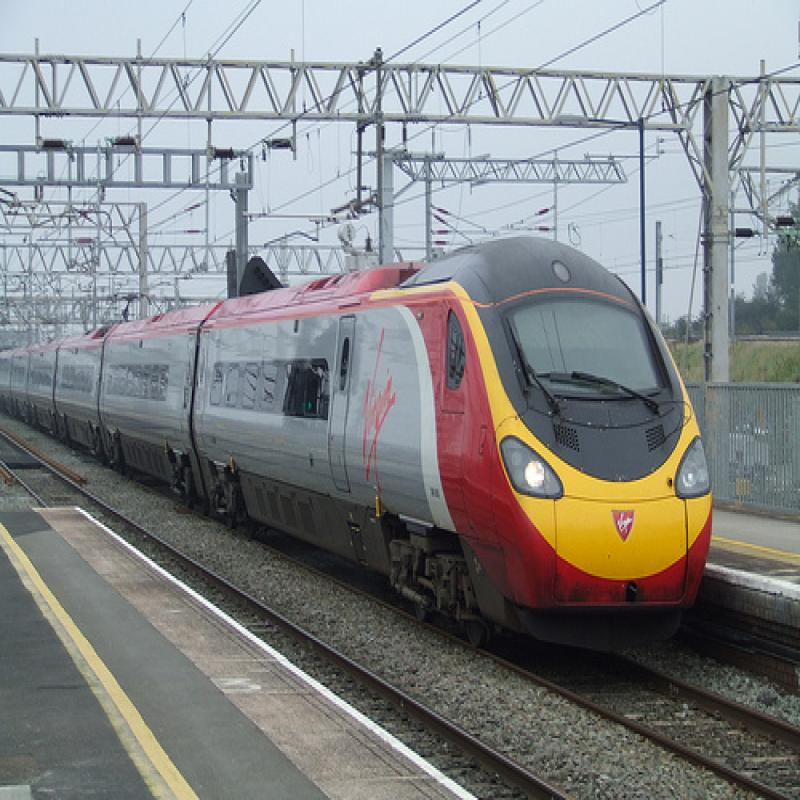train: (3, 238, 713, 660)
